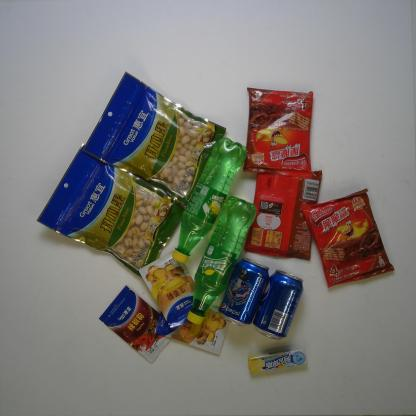Candy: (247, 346, 306, 376)
Dessert: (300, 188, 398, 290), (245, 167, 322, 262), (244, 87, 318, 182)
Dried Fruit: (84, 70, 227, 207), (35, 145, 184, 273)
Drink: (173, 135, 248, 263), (186, 195, 257, 325), (218, 258, 270, 328), (254, 270, 303, 340)
Seasoner: (100, 286, 169, 363), (136, 253, 195, 328), (153, 301, 230, 355)
